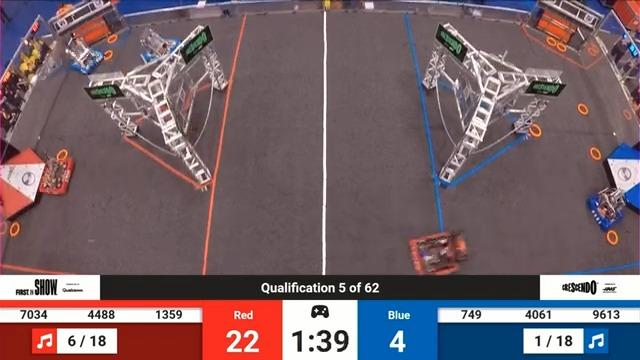robot: (405, 220, 473, 275), (132, 25, 179, 68), (586, 181, 628, 229), (60, 33, 105, 76), (36, 156, 77, 197)
